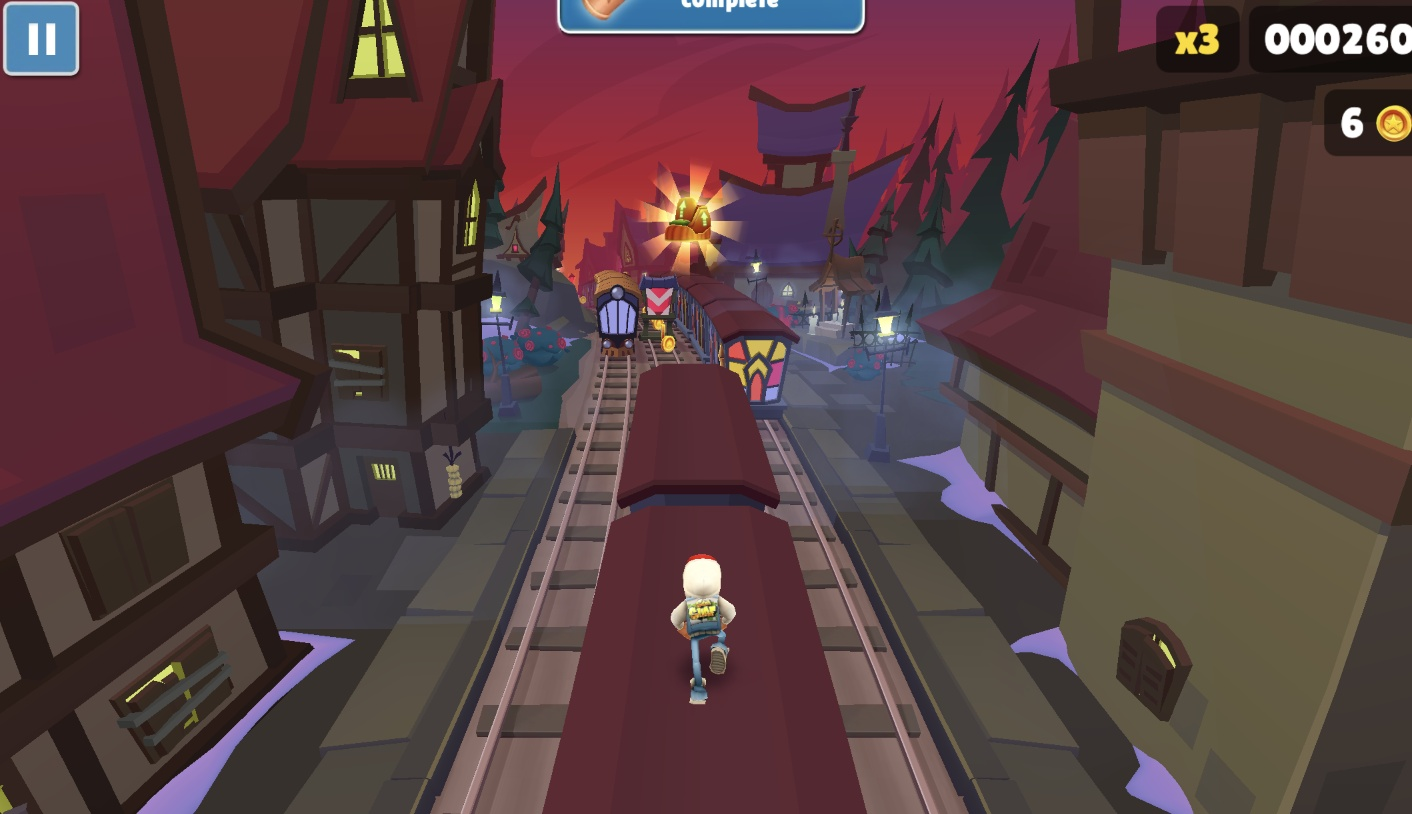overhead_barrier: (639, 275, 677, 337)
train: (543, 364, 866, 814), (673, 274, 800, 422), (589, 271, 644, 356)
